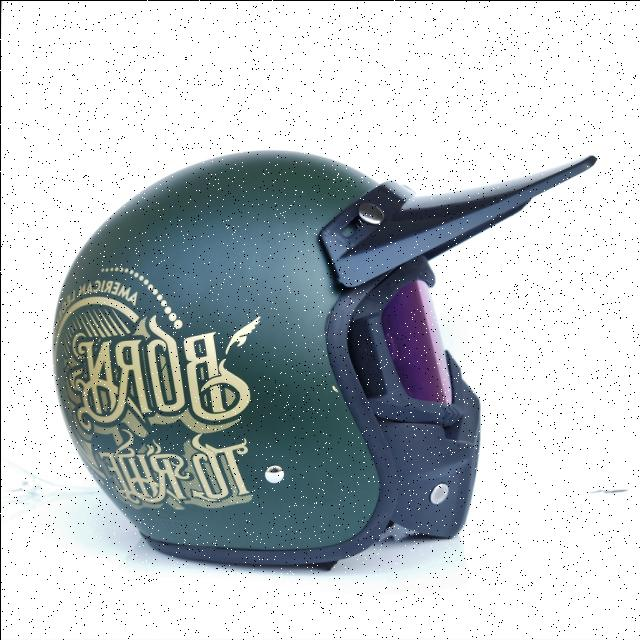Helmet: (52, 151, 595, 565)
